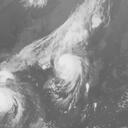cyclone: (54, 52, 83, 84), (0, 85, 24, 122)
